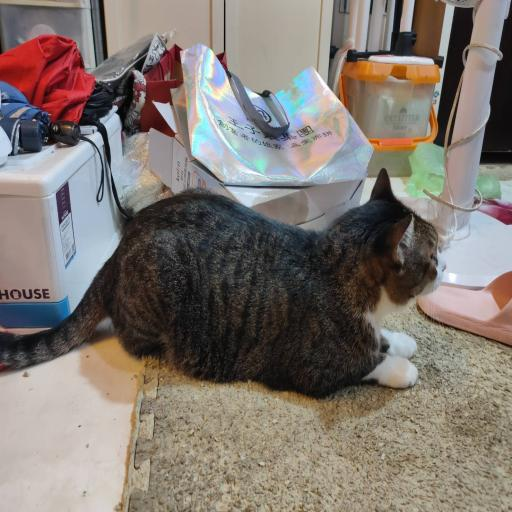cat: (0, 187, 453, 394)
